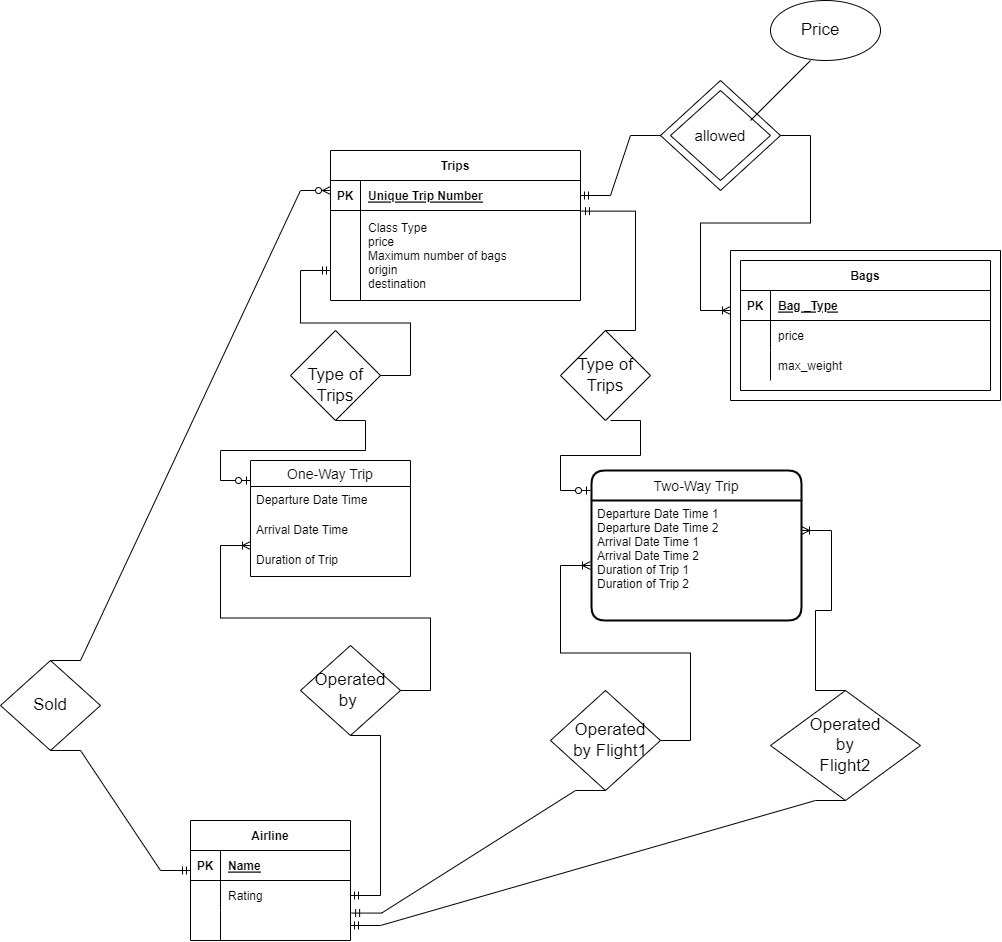entity: (332, 151, 581, 300), (593, 471, 804, 622), (190, 821, 351, 942), (249, 461, 412, 578)
ident_rel: (663, 82, 782, 191)
many: (300, 185, 331, 199), (559, 560, 593, 572), (221, 540, 251, 553), (801, 525, 829, 538), (701, 305, 729, 318)
one: (159, 864, 190, 878), (580, 206, 613, 219), (559, 485, 591, 498), (350, 890, 380, 903), (579, 190, 610, 202), (222, 476, 250, 487), (301, 265, 331, 275), (349, 921, 380, 930), (351, 908, 381, 917)
rel: (770, 690, 921, 800), (553, 689, 662, 790), (298, 645, 400, 735), (4, 660, 101, 752), (291, 330, 381, 419), (562, 331, 653, 419)
rel_attr: (770, 1, 884, 61)
weak_entity: (732, 251, 1002, 403)
